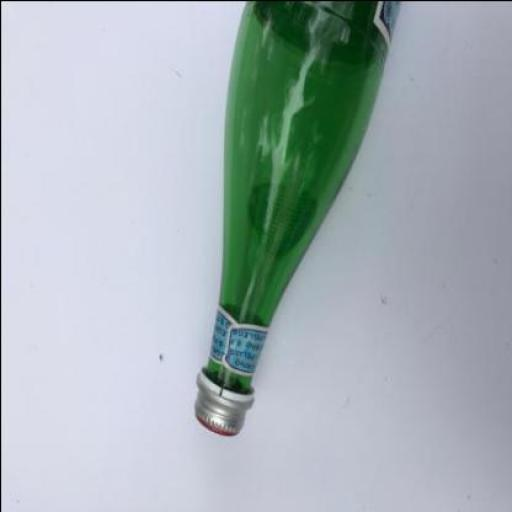glass: (202, 1, 399, 388)
metal: (190, 368, 254, 433)
